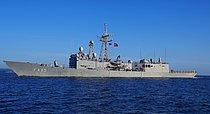MIL_Ship: (3, 21, 198, 80)
